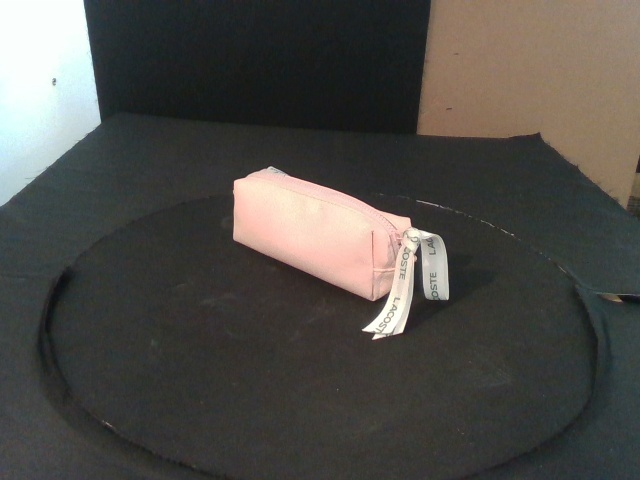pencil_case: (233, 168, 412, 301)
